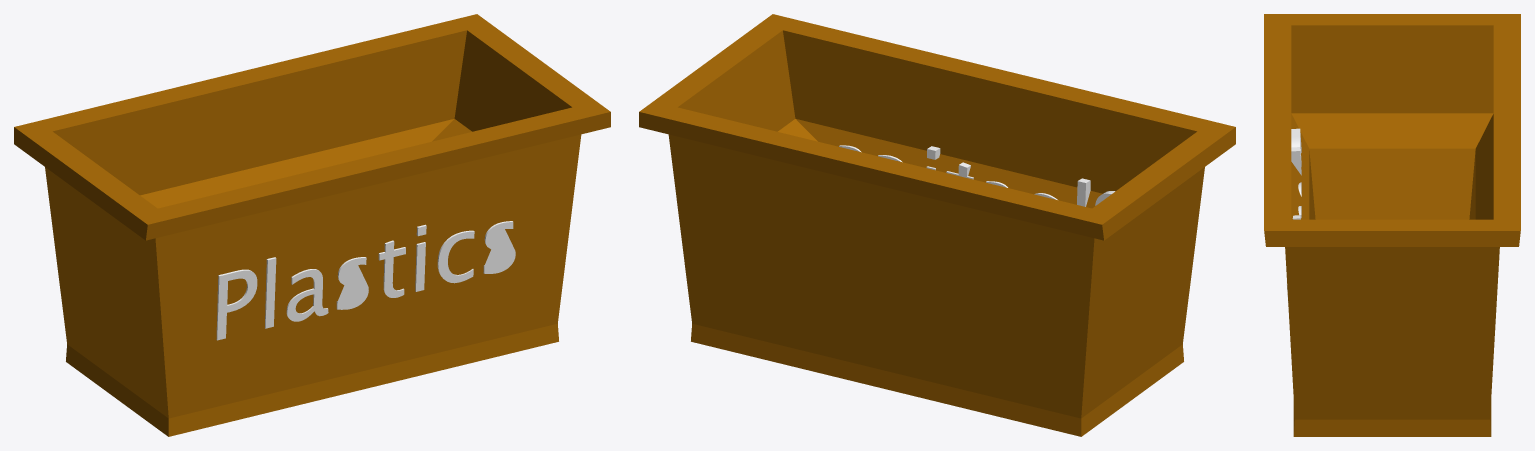
Rendered from Tip Container Plastics.fbx.
3 views of the same model, side by side, from view 1: azimuth 30°, elevation 25°; view 2: azimuth 150°, elevation 25°; view 3: azimuth 270°, elevation 25° (orthographic). The views are drawn at different scales.
Visible parts, largest first — view 1: pCube1, typeMesh1; view 2: pCube1, typeMesh1; view 3: pCube1, typeMesh1.
Part boxes in pixels (<box>): pCube1: <box>14,14,610,436</box>; typeMesh1: <box>216,221,515,340</box>; pCube1: <box>639,14,1235,436</box>; typeMesh1: <box>839,145,1115,206</box>; pCube1: <box>1264,14,1520,436</box>; typeMesh1: <box>1286,128,1301,319</box>.
Bounding box in the file's own units: 10.48 × 5 × 5.22.
